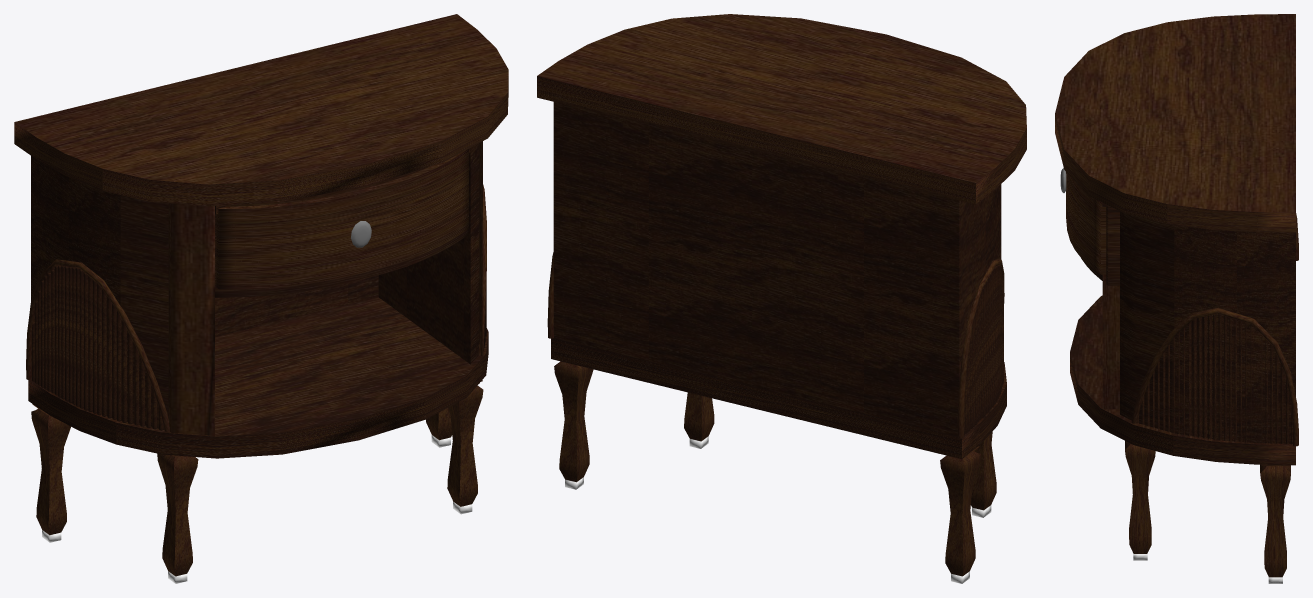
Rendered from 3732_Night_Stand_Table.fbx.
3 renders of one model, left to right at view 1: azimuth 30°, elevation 25°; view 2: azimuth 150°, elevation 25°; view 3: azimuth 270°, elevation 25°, orthographic. The views are drawn at different scales.
Parts seen in each view (by area): view 1: table_top, Rectangle0, Rectangle1, drawer, Box21_Box0, Box13, Box27, Box23, Rectangl10, Loft01, Box21, Capsule16 (+8 smaller); view 2: Rectangle1, table_top, Rectangle0, Box27, Box25, Box13, Loft01, Box23; view 3: table_top, Rectangle1, Rectangle0, drawer, Box25, Box23, Box21, Loft02, Rectangl10, Capsule48, Capsule49, Capsule50 (+8 smaller).
Boxes of the visible parts, x1=… form: table_top: x1=14, y1=14, x2=508, y2=206; Rectangle0: x1=28, y1=297, x2=488, y2=458; Rectangle1: x1=31, y1=141, x2=482, y2=429; drawer: x1=216, y1=149, x2=468, y2=289; Box21_Box0: x1=168, y1=203, x2=214, y2=436; Box13: x1=157, y1=453, x2=198, y2=576; Box27: x1=31, y1=409, x2=70, y2=535; Box23: x1=447, y1=385, x2=483, y2=506; Rectangl10: x1=215, y1=167, x2=468, y2=297; Loft01: x1=26, y1=259, x2=169, y2=431; Box21: x1=479, y1=141, x2=482, y2=356; Capsule16: x1=83, y1=272, x2=88, y2=410; Rectangle1: x1=553, y1=99, x2=1001, y2=436; table_top: x1=537, y1=14, x2=1026, y2=204; Rectangle0: x1=551, y1=338, x2=1006, y2=459; Box27: x1=940, y1=451, x2=980, y2=576; Box25: x1=554, y1=361, x2=593, y2=482; Box13: x1=971, y1=431, x2=996, y2=510; Loft01: x1=957, y1=258, x2=1004, y2=438; Box23: x1=684, y1=392, x2=714, y2=441; table_top: x1=1055, y1=14, x2=1295, y2=232; Rectangle1: x1=1120, y1=211, x2=1295, y2=443; Rectangle0: x1=1070, y1=295, x2=1295, y2=465; drawer: x1=1066, y1=172, x2=1106, y2=274; Box25: x1=1260, y1=464, x2=1290, y2=577; Box23: x1=1125, y1=441, x2=1155, y2=553; Box21: x1=1102, y1=274, x2=1119, y2=409; Loft02: x1=1131, y1=307, x2=1298, y2=446; Rectangl10: x1=1081, y1=205, x2=1119, y2=285; Capsule48: x1=1199, y1=317, x2=1203, y2=438; Capsule49: x1=1194, y1=318, x2=1198, y2=437; Capsule50: x1=1189, y1=320, x2=1193, y2=436.
Size of the model in its own units: 80.55 by 72.11 by 41.82.
